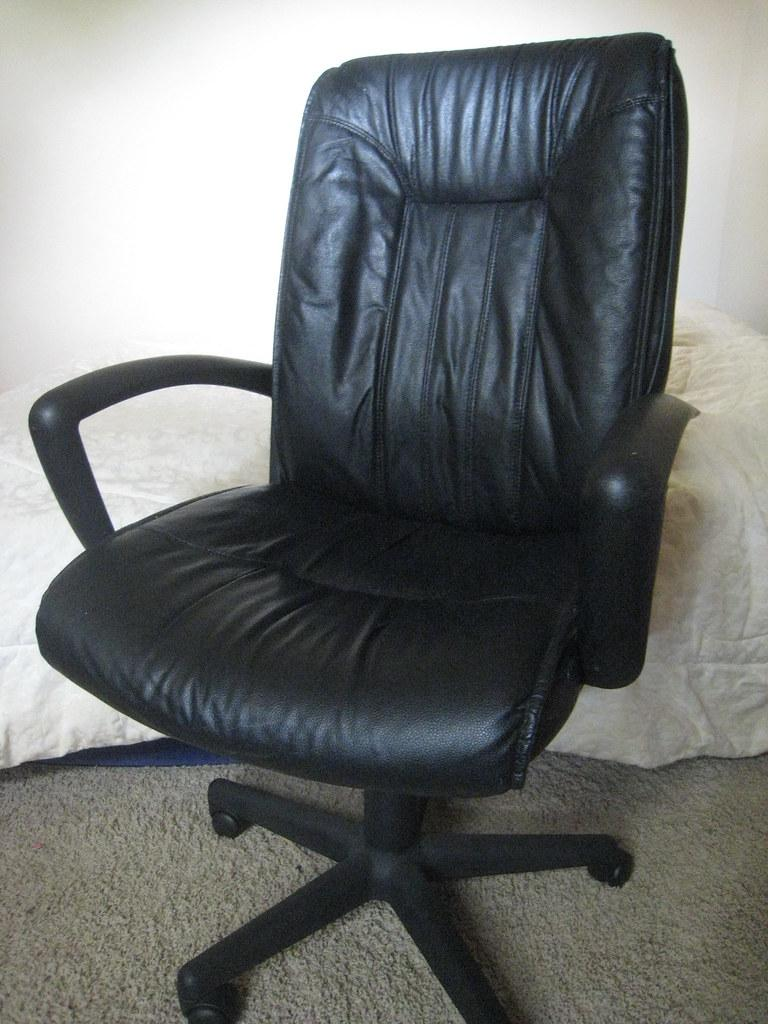chair: (28, 32, 699, 1023)
